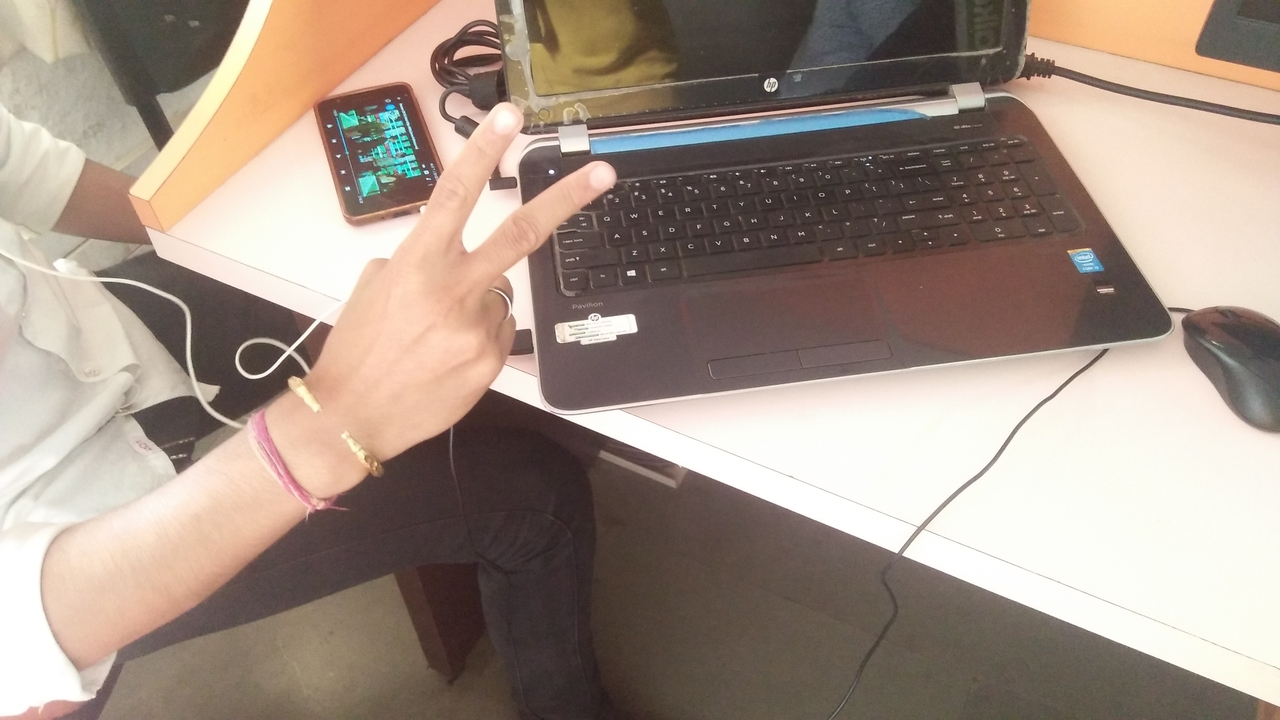fingertip: (464, 92, 526, 148), (577, 161, 622, 205)
